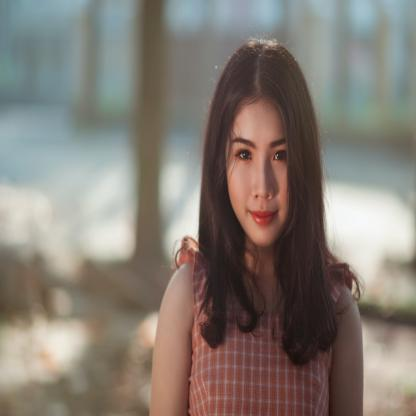Eye: (234, 144, 255, 166), (271, 145, 289, 167)
Mouth: (245, 202, 280, 230)
Nose: (251, 164, 275, 201)
